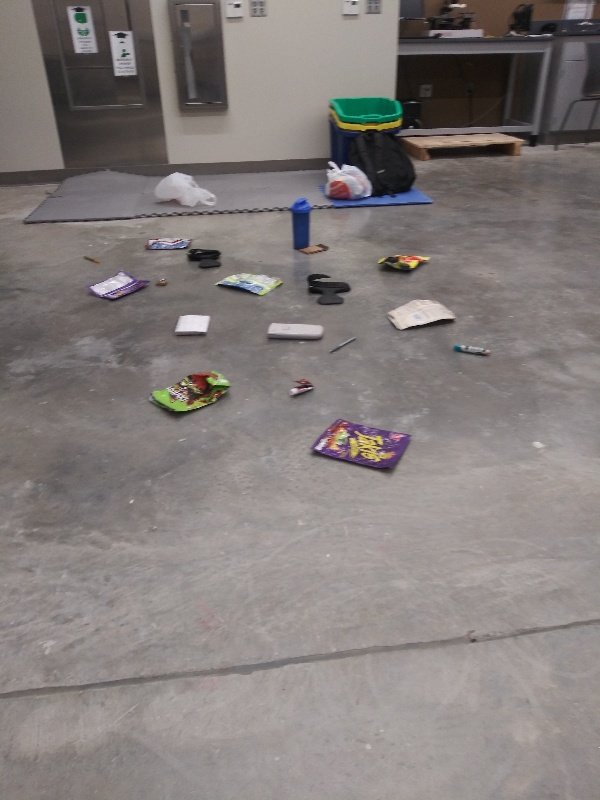bag: (307, 412, 410, 479), (141, 368, 235, 415), (80, 267, 156, 305), (383, 297, 459, 334), (212, 268, 287, 300), (370, 249, 434, 278), (140, 235, 199, 252)
